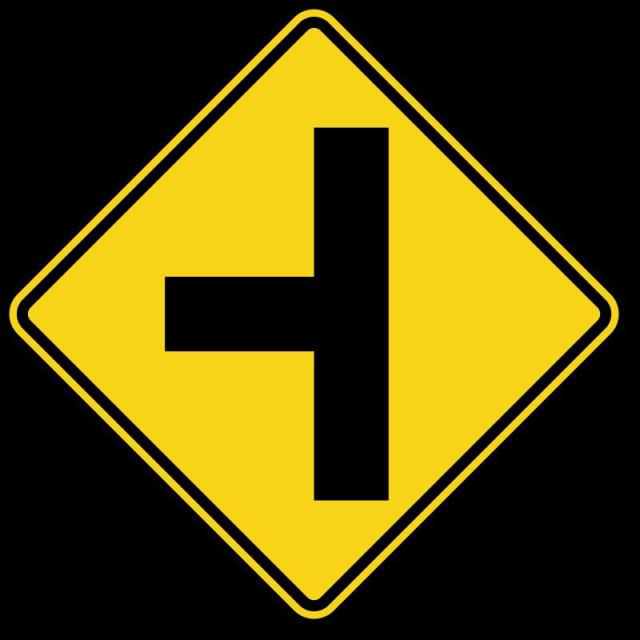Sideroad_toleft: (8, 7, 630, 609)
